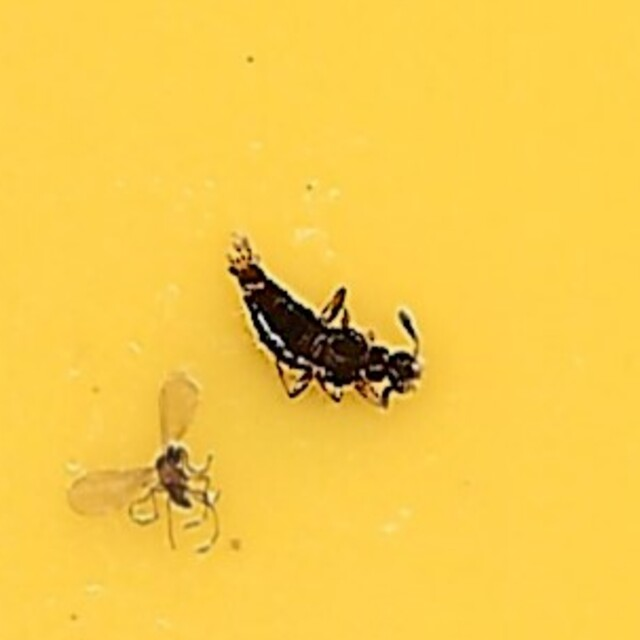Coleoptera: (211, 222, 429, 418)
